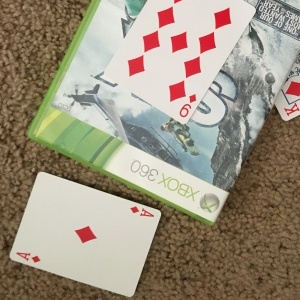card: (10, 170, 161, 297)
